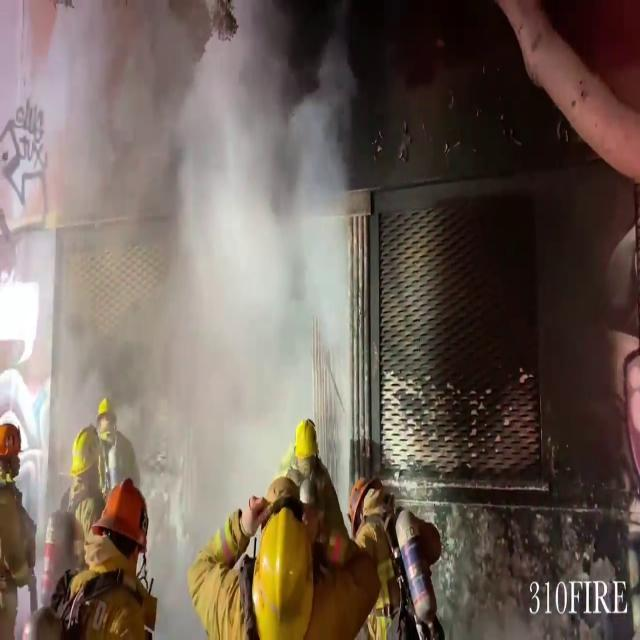Smoke: (12, 0, 340, 473)
